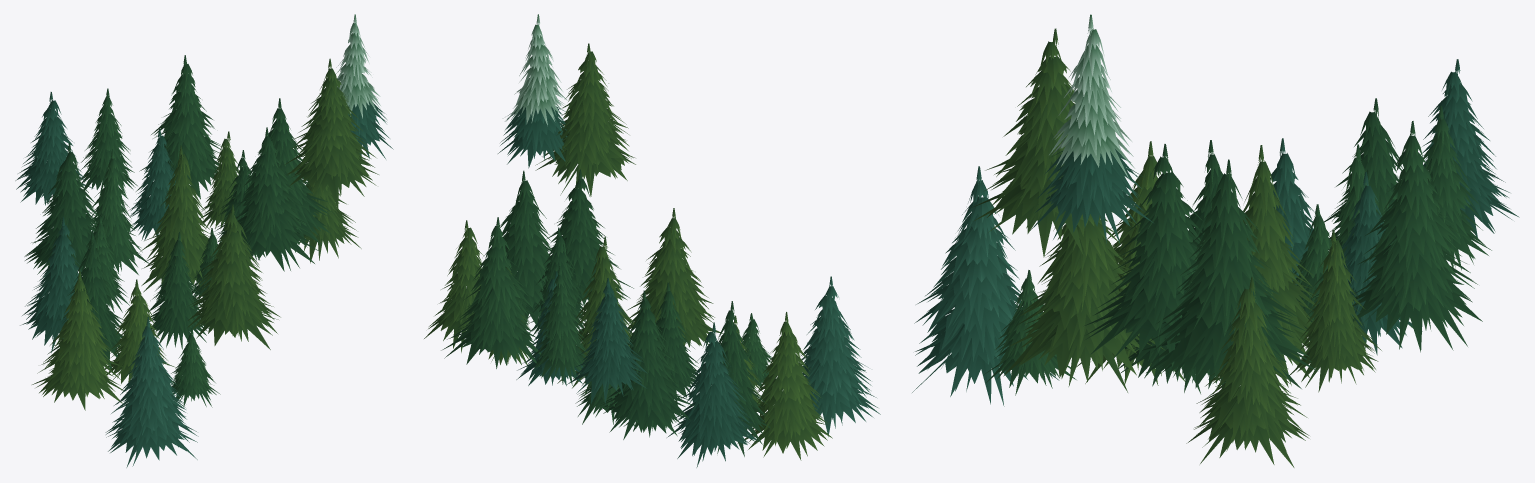
The model's file is pine_9.glb.
The picture shows the model from 3 angles, left to right: view 1: azimuth 30°, elevation 25°; view 2: azimuth 150°, elevation 25°; view 3: azimuth 270°, elevation 25°; orthographic projection. The views are drawn at different scales.
Parts seen in each view (by area): view 1: pine_9; view 2: pine_9; view 3: pine_9.
Boxes of the visible parts, box(x1,y1,x2,y2) form: pine_9: box(15, 14, 393, 467); pine_9: box(424, 14, 880, 467); pine_9: box(912, 14, 1519, 467).
Size of the model in its own units: 36.28 by 35.4 by 35.91.
Materials: 1 (1 with a texture image).
